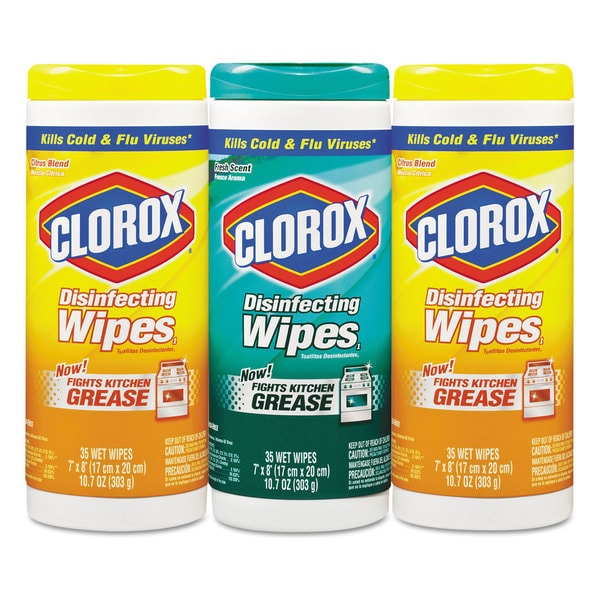Wipes: (22, 57, 211, 537), (207, 53, 394, 538), (393, 57, 577, 536)
